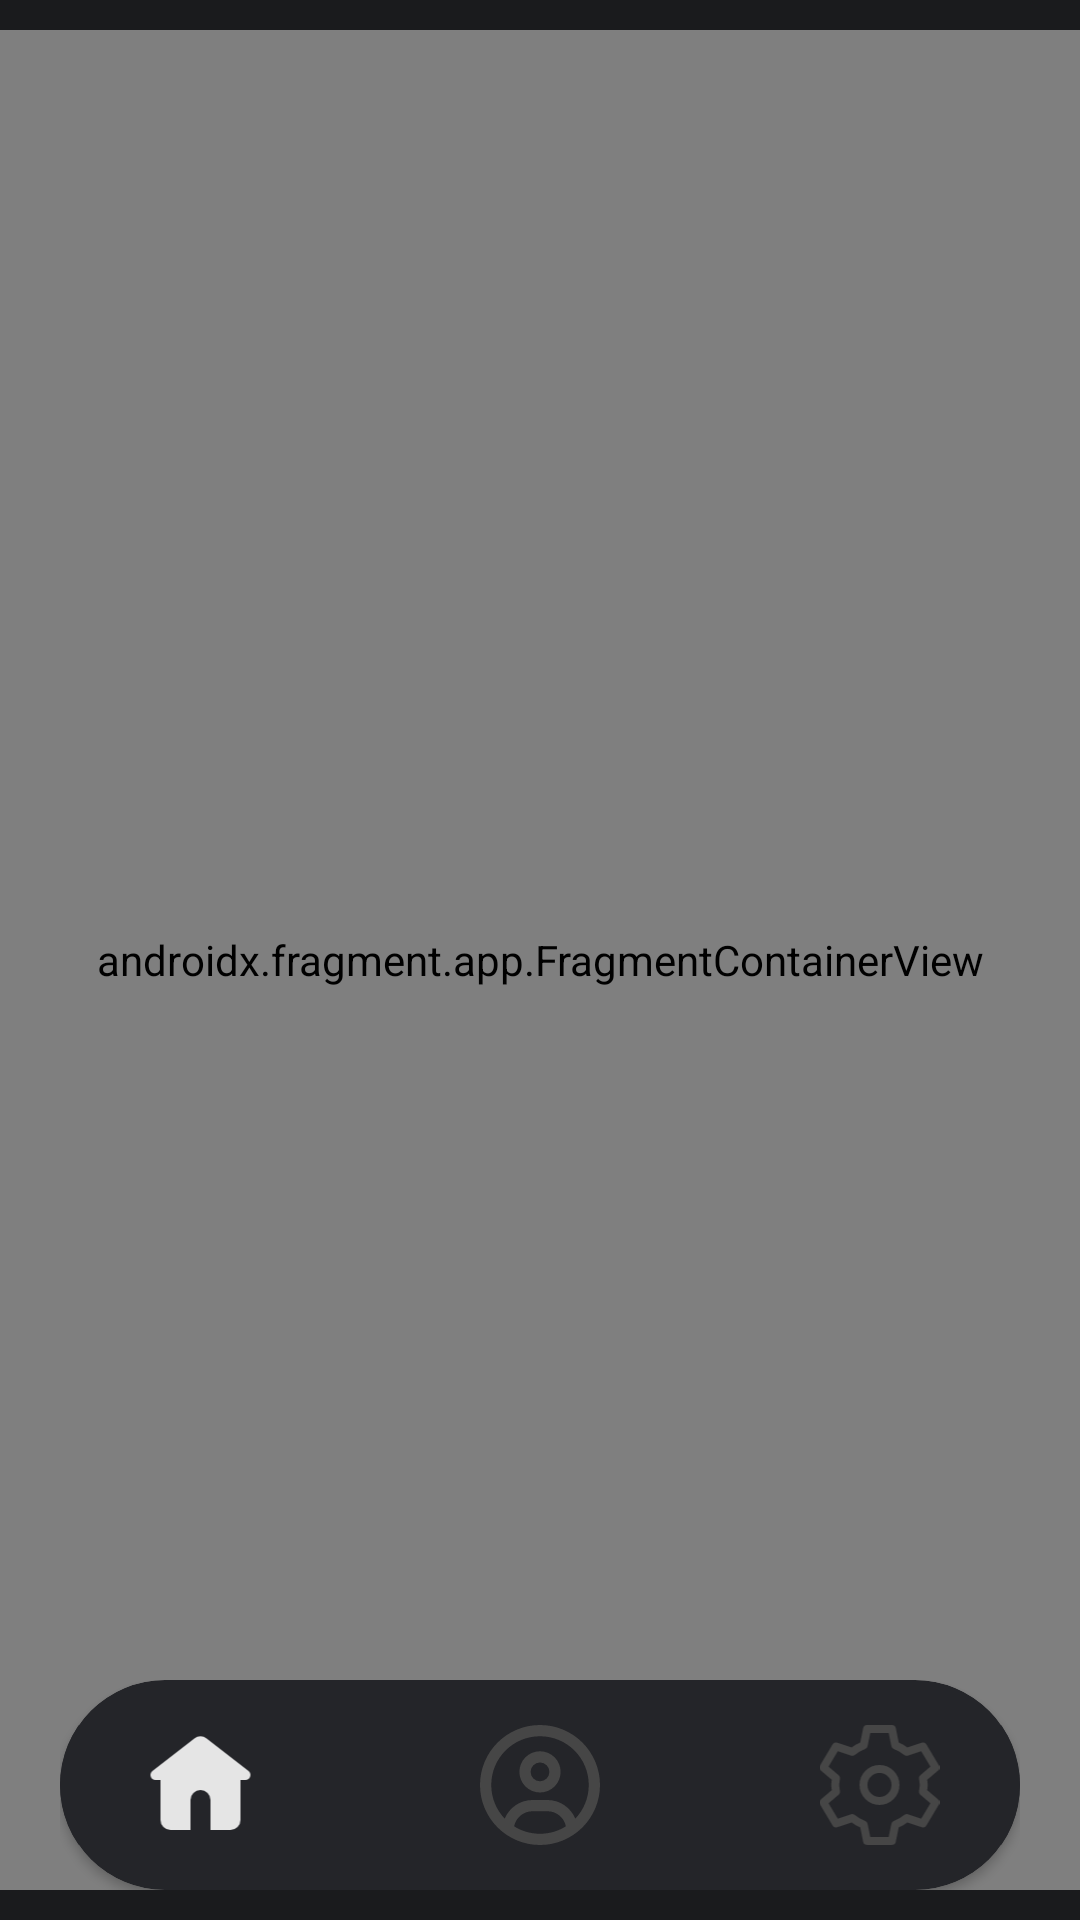

Icons on this 1080*1920 Android screen, each with the point to tap as (x=x, y=y):
circle user: (x=540, y=1785)
cog: (x=880, y=1785)
home: (x=200, y=1783)
